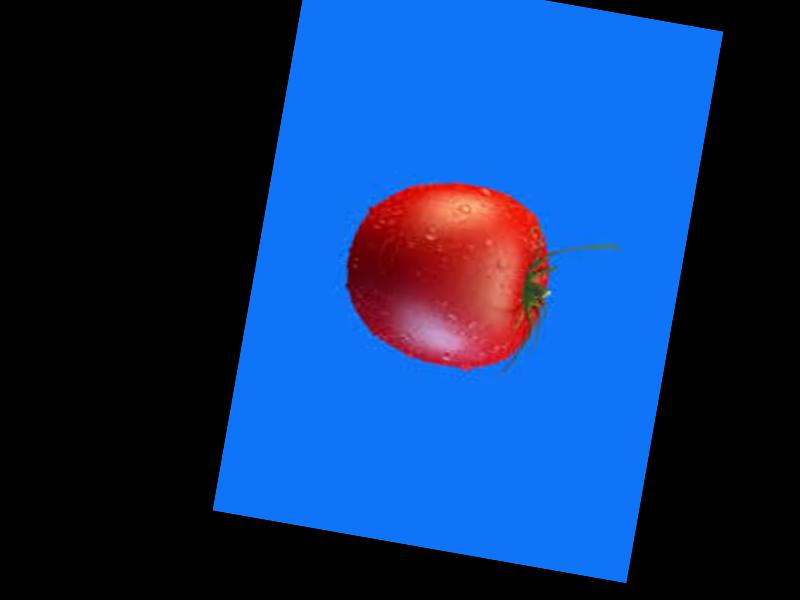Tomato: (332, 165, 563, 383)
